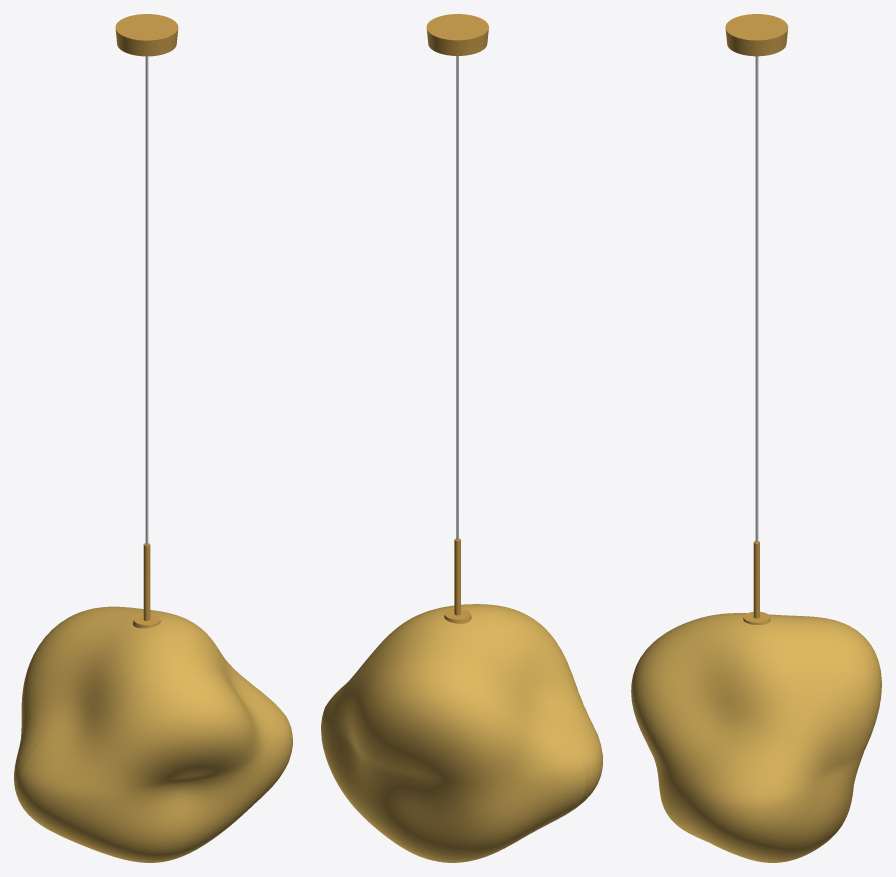
File: suspension-acrylique-transparent-en-9-coloris.glb
3 views of the same model, side by side, from view 1: azimuth 30°, elevation 25°; view 2: azimuth 150°, elevation 25°; view 3: azimuth 270°, elevation 25° (orthographic).
Parts seen in each view (by area): view 1: suspension-acrylique-transparent-en-9-coloris; view 2: suspension-acrylique-transparent-en-9-coloris; view 3: suspension-acrylique-transparent-en-9-coloris.
Boxes of the visible parts, left/top/right/bottom form: suspension-acrylique-transparent-en-9-coloris: left=14, top=14, right=292, bottom=862; suspension-acrylique-transparent-en-9-coloris: left=321, top=14, right=602, bottom=862; suspension-acrylique-transparent-en-9-coloris: left=631, top=14, right=881, bottom=862.
Bounding box in the file's own units: 0.3684 × 1.09 × 0.3036.
